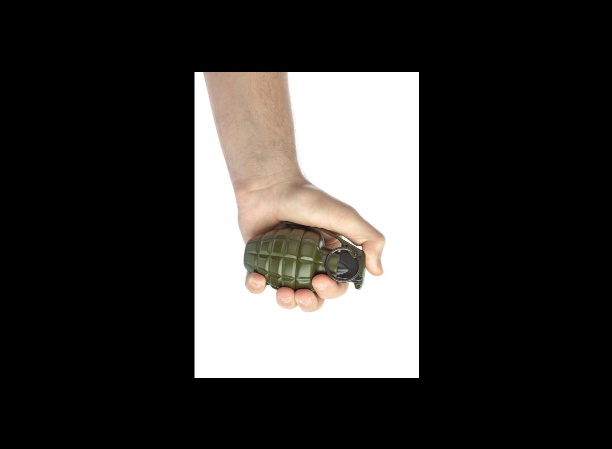e1: (244, 224, 366, 296)
